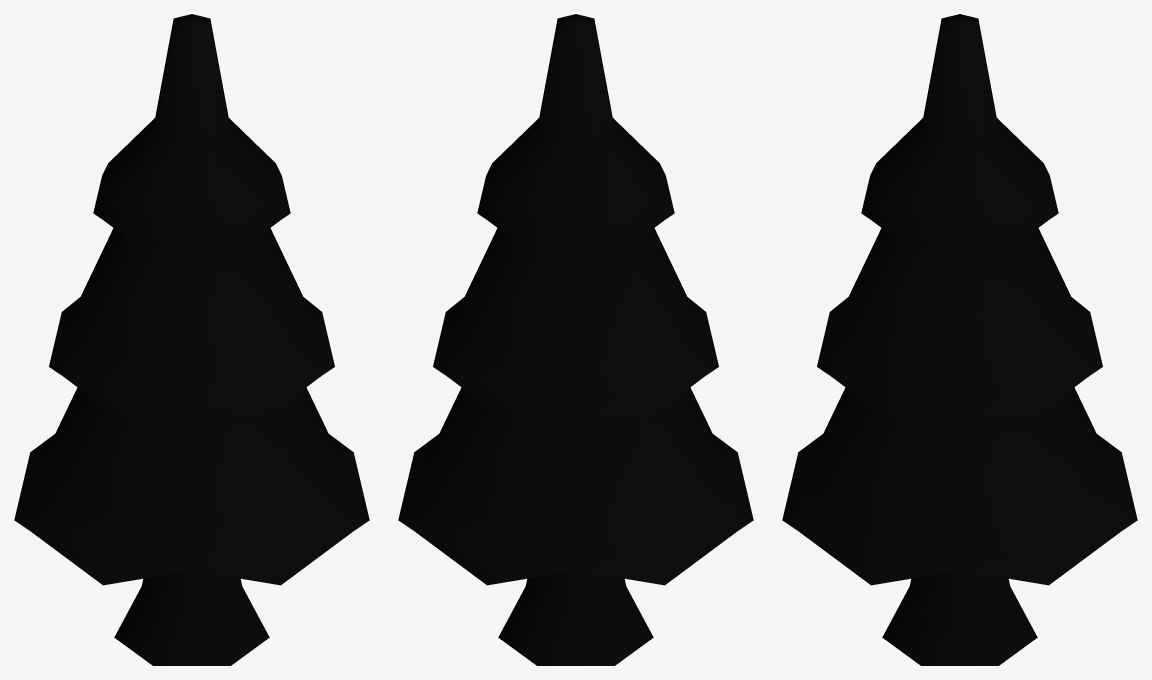
Rendered from tree.glb.
The picture shows the model from 3 angles, left to right: view 1: azimuth 30°, elevation 25°; view 2: azimuth 150°, elevation 25°; view 3: azimuth 270°, elevation 25°; orthographic projection.
Visible parts, largest first — view 1: tree; view 2: tree; view 3: tree.
Boxes of the visible parts, left/top/right/bottom form: tree: left=14, top=14, right=369, bottom=665; tree: left=398, top=14, right=753, bottom=665; tree: left=782, top=14, right=1137, bottom=665.
Size of the model in its own units: 0.9274 by 1.68 by 0.8828.
Materials: 1 (1 with a texture image).
